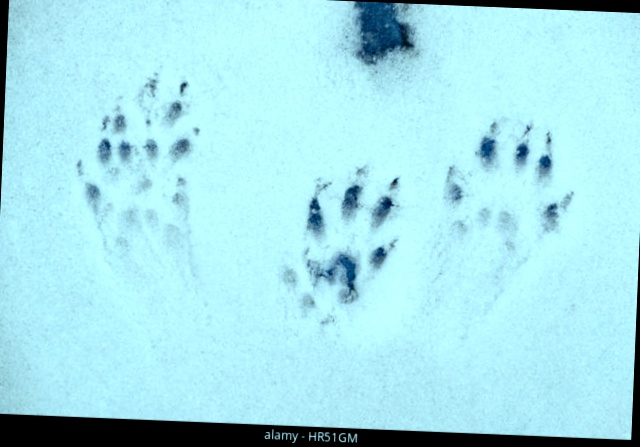ecureuil: (425, 96, 580, 333), (55, 62, 208, 280), (267, 151, 407, 345)
